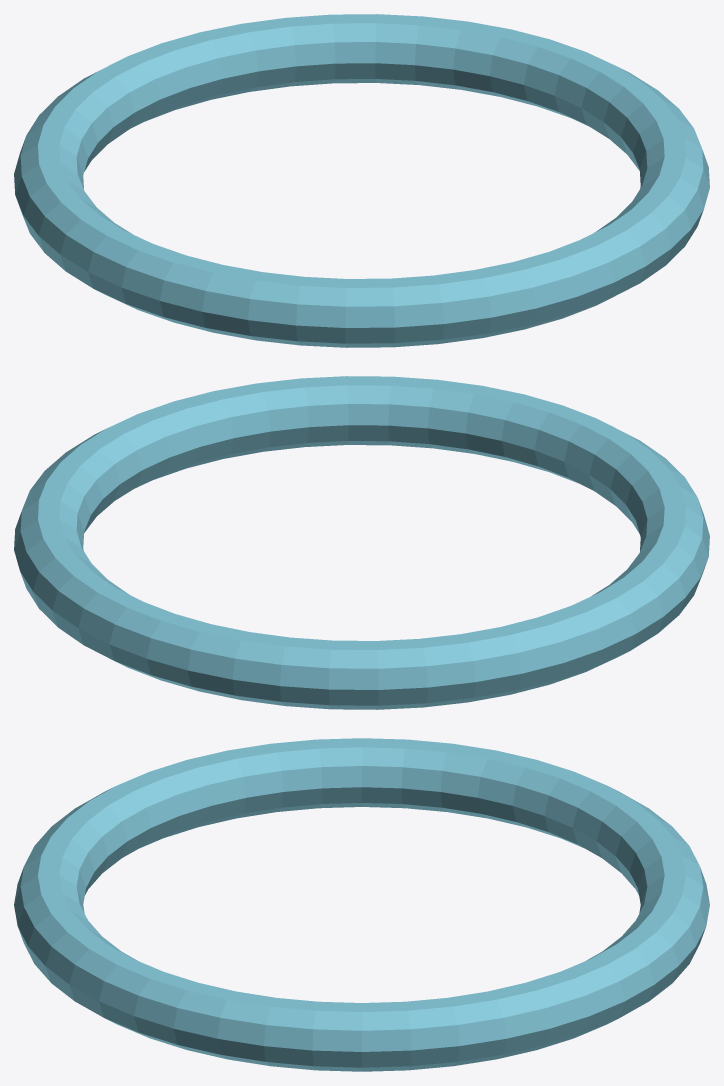
Rendered from TorusAxis.fbx.
3 views of the same model, one above another, from view 1: azimuth 30°, elevation 25°; view 2: azimuth 150°, elevation 25°; view 3: azimuth 270°, elevation 25° (orthographic).
Visible parts, largest first — view 1: Torus; view 2: Torus; view 3: Torus.
Part boxes in pixels (x1=…): Torus: x1=14, y1=14, x2=709, y2=347; Torus: x1=14, y1=376, x2=709, y2=709; Torus: x1=14, y1=738, x2=709, y2=1071.
Size of the model in its own units: 422 by 39.94 by 422.
